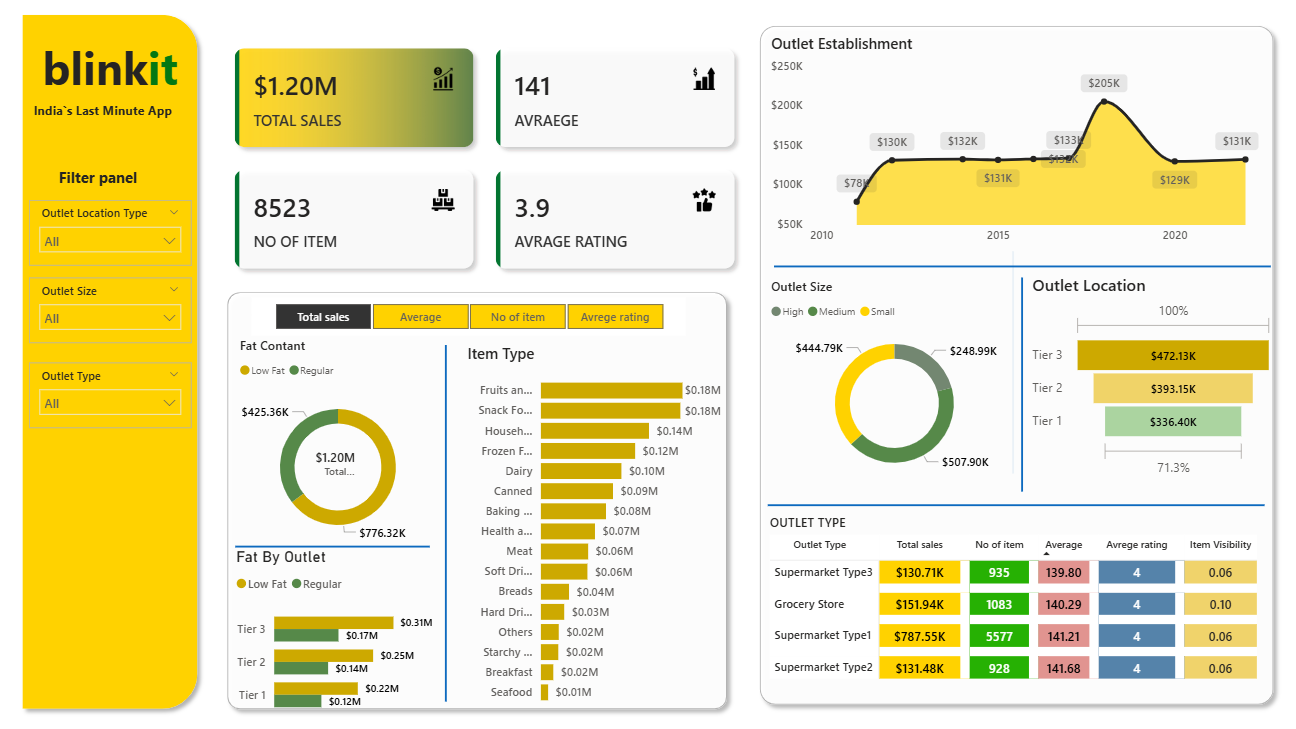

The dashboard page shown, as its layout file describes it:
{"tool":"powerbi","page":{"name":"Page 1","canvas":[1400,800],"ordinal":0},"visuals":[{"type":"shape","box":[21,18,205.6,762.4],"z":0},{"type":"textbox","box":[37.5,45,174.1,91.6],"z":1000},{"type":"textbox","box":[37.5,115.6,174.1,40.5],"z":2000},{"type":"cardVisual","fields":{"Data":["BlinkIT Grocery Data.Total sales","BlinkIT Grocery Data.Average","BlinkIT Grocery Data.No of item","BlinkIT Grocery Data.Avrege rating"]},"box":[241.6,45,570.3,270.2],"z":3000},{"type":"shape","box":[241.6,315.2,553.8,465.3],"z":4000},{"type":"donutChart","title":"Fat Contant","fields":{"Y":["BlinkIT Grocery Data.Total sales"],"Category":["BlinkIT Grocery Data.Item Fat Content"]},"box":[258.1,370.7,220.6,235.6],"z":5000},{"type":"slicer","fields":{"Values":["Matrix.Matrix"]},"box":[276.2,330.2,465.3,40.5],"z":6000},{"type":"cardVisual","fields":{"Data":["BlinkIT Grocery Data.Total sales"]},"box":[325.7,474.3,81,58.5],"z":7000},{"type":"clusteredBarChart","title":"Fat By Outlet","fields":{"Y":["BlinkIT Grocery Data.Total sales"],"Category":["BlinkIT Grocery Data.Outlet Location Type"],"Series":["BlinkIT Grocery Data.Item Fat Content"]},"box":[255.1,597.3,220.6,192.1],"z":8000},{"type":"shape","box":[258.1,586.8,208.6,19.5],"z":9000},{"type":"shape","box":[1083.6,280.7,19.5,238.6],"z":10000},{"type":"barChart","title":"Item Type","fields":{"Y":["BlinkIT Grocery Data.Total sales"],"Category":["BlinkIT Grocery Data.Item Type"]},"box":[502.8,378.2,282.2,397.7],"z":11000},{"type":"shape","box":[812,30,568.8,745.9],"z":12000},{"type":"lineChart","title":"Outlet Establishment","fields":{"Category":["BlinkIT Grocery Data.Outlet Establishment Year"],"Y":["BlinkIT Grocery Data.Total sales"]},"box":[828.5,45,532.8,235.6],"z":13000},{"type":"shape","box":[830,544.8,532.8,16.5],"z":14000},{"type":"donutChart","title":"Outlet Size","fields":{"Y":["BlinkIT Grocery Data.Total sales"],"Series":["BlinkIT Grocery Data.Outlet Size"]},"box":[828.5,307.7,274.7,225.1],"z":15000},{"type":"shape","box":[1097.1,307.7,12,229.6],"z":16000},{"type":"shape","box":[478.8,381.2,12,382.7],"z":17000},{"type":"funnel","title":"Outlet Location","fields":{"Category":["BlinkIT Grocery Data.Outlet Location Type"],"Y":["BlinkIT Grocery Data.Total sales"]},"box":[1109.1,304.7,268.7,223.6],"z":18000},{"type":"shape","box":[836,288.2,532.8,16.5],"z":19000},{"type":"pivotTable","title":"OUTLET TYPE","fields":{"Rows":["BlinkIT Grocery Data.Outlet Type"],"Values":["BlinkIT Grocery Data.Total sales","BlinkIT Grocery Data.No of item","BlinkIT Grocery Data.Average","BlinkIT Grocery Data.Avrege rating","Avg(BlinkIT Grocery Data.Item Visibility)"]},"box":[827,561.3,532.8,190.6],"z":20000},{"type":"slicer","fields":{"Values":["BlinkIT Grocery Data.Outlet Location Type"]},"box":[37.5,225.1,174.1,70.5],"z":21000},{"type":"slicer","fields":{"Values":["BlinkIT Grocery Data.Outlet Size"]},"box":[37.5,307.7,174.1,70.5],"z":22000},{"type":"slicer","fields":{"Values":["BlinkIT Grocery Data.Outlet Type"]},"box":[37.5,399.2,174.1,70.5],"z":23000},{"type":"textbox","box":[64.5,184.6,126.1,40.5],"z":24000}]}

Visuals, with their boxes in screenshot pixels (x1, y1, x2, y2), scaled from the page's 1400x800 canvas onto the 1296x729 screenshot:
shape: [left=19, top=16, right=210, bottom=711]
textbox: [left=35, top=41, right=196, bottom=124]
textbox: [left=35, top=105, right=196, bottom=142]
cardVisual - BlinkIT Grocery Data.Total sales x BlinkIT Grocery Data.Average: [left=224, top=41, right=752, bottom=287]
shape: [left=224, top=287, right=736, bottom=711]
"Fat Contant" donutChart: [left=239, top=338, right=443, bottom=552]
slicer - Matrix.Matrix: [left=256, top=301, right=686, bottom=338]
cardVisual - BlinkIT Grocery Data.Total sales: [left=302, top=432, right=376, bottom=486]
"Fat By Outlet" clusteredBarChart: [left=236, top=544, right=440, bottom=719]
shape: [left=239, top=535, right=432, bottom=552]
shape: [left=1003, top=256, right=1021, bottom=473]
"Item Type" barChart: [left=465, top=345, right=727, bottom=707]
shape: [left=752, top=27, right=1278, bottom=707]
"Outlet Establishment" lineChart: [left=767, top=41, right=1260, bottom=256]
shape: [left=768, top=496, right=1262, bottom=511]
"Outlet Size" donutChart: [left=767, top=280, right=1021, bottom=486]
shape: [left=1016, top=280, right=1027, bottom=490]
shape: [left=443, top=347, right=454, bottom=696]
"Outlet Location" funnel: [left=1027, top=278, right=1275, bottom=481]
shape: [left=774, top=263, right=1267, bottom=278]
"OUTLET TYPE" pivotTable: [left=766, top=511, right=1259, bottom=685]
slicer - BlinkIT Grocery Data.Outlet Location Type: [left=35, top=205, right=196, bottom=269]
slicer - BlinkIT Grocery Data.Outlet Size: [left=35, top=280, right=196, bottom=345]
slicer - BlinkIT Grocery Data.Outlet Type: [left=35, top=364, right=196, bottom=428]
textbox: [left=60, top=168, right=176, bottom=205]
